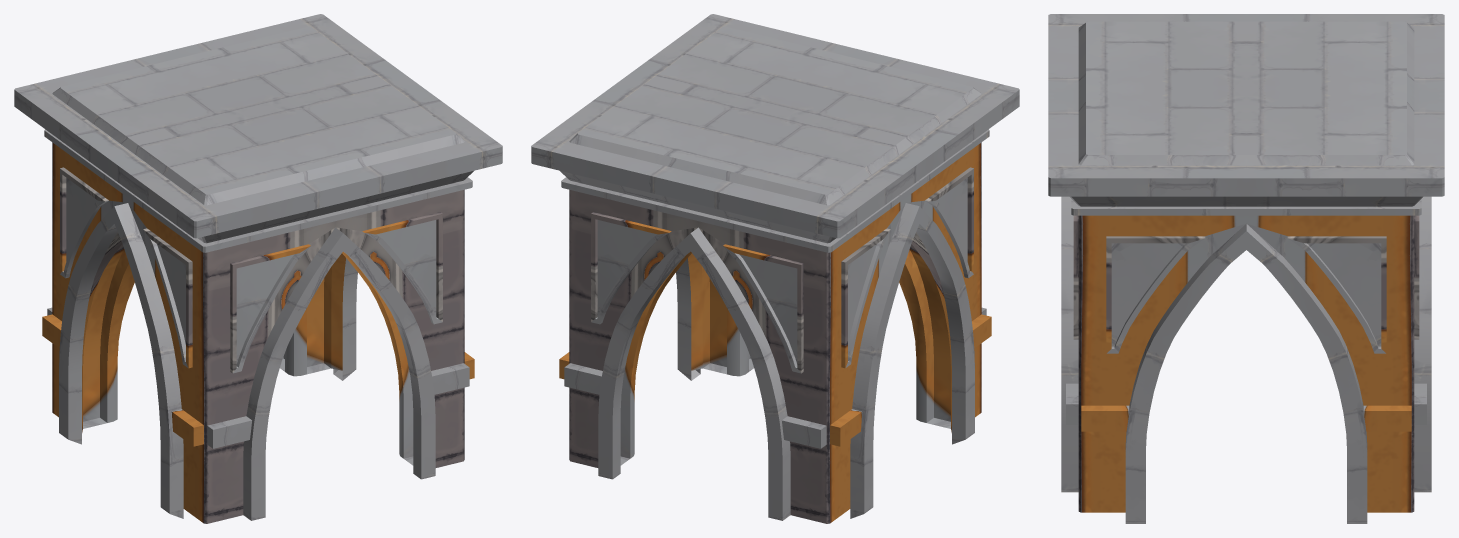
File: SM_Arch_Tower.fbx
The picture shows the model from 3 angles, left to right: view 1: azimuth 30°, elevation 25°; view 2: azimuth 150°, elevation 25°; view 3: azimuth 270°, elevation 25°; orthographic projection. The views are drawn at different scales.
Visible parts, largest first — view 1: SM_Arch_Tower; view 2: SM_Arch_Tower; view 3: SM_Arch_Tower.
Boxes of the visible parts, <box> form: SM_Arch_Tower: <box>14,14,502,523</box>; SM_Arch_Tower: <box>531,14,1019,523</box>; SM_Arch_Tower: <box>1048,14,1444,523</box>.
Size of the model in its own units: 9.33 by 9.71 by 9.51.
